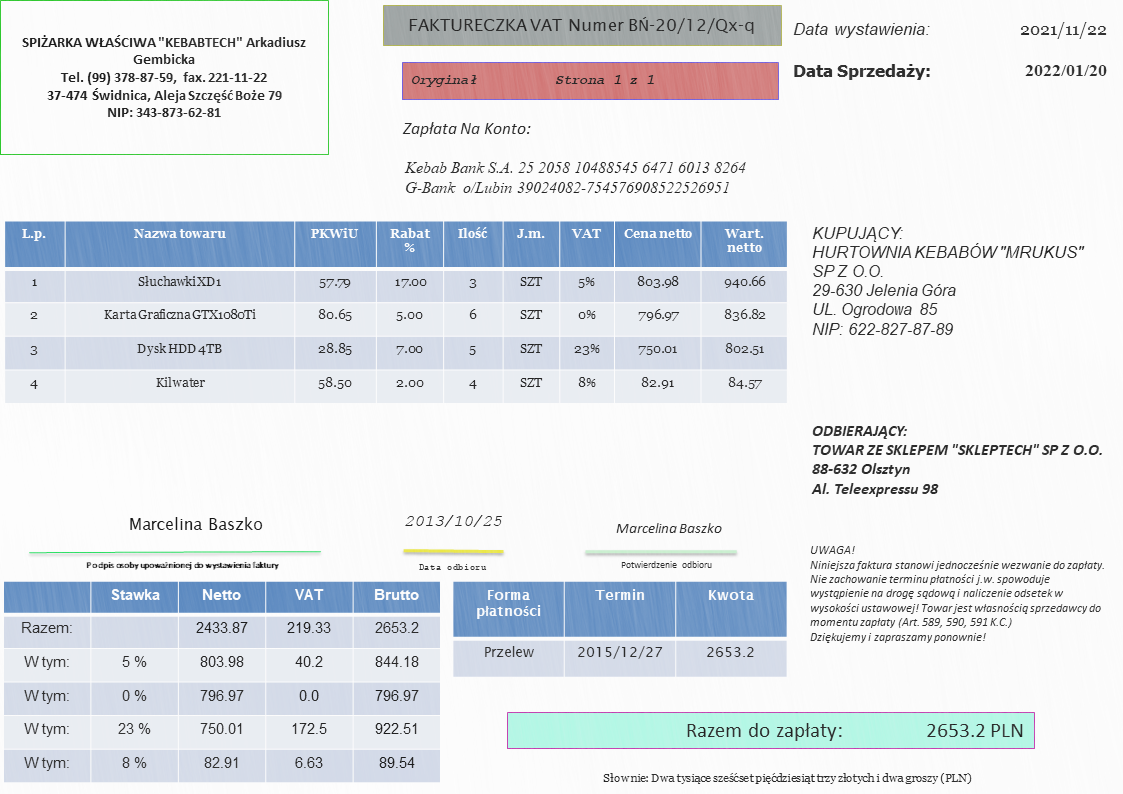Table: (3, 217, 790, 404), (2, 581, 442, 784), (451, 580, 788, 678)
TextBox: (808, 222, 1087, 339), (807, 542, 1105, 646), (18, 30, 307, 121), (808, 420, 1105, 499), (403, 156, 748, 197), (404, 14, 757, 38), (684, 718, 1023, 742), (600, 768, 974, 787), (408, 70, 659, 91), (791, 60, 935, 84), (790, 18, 931, 41), (400, 117, 535, 139), (83, 559, 281, 573), (127, 515, 263, 533), (1015, 19, 1110, 41), (614, 520, 724, 537), (402, 512, 506, 529), (1021, 61, 1111, 80), (619, 558, 714, 571), (417, 559, 488, 573)
